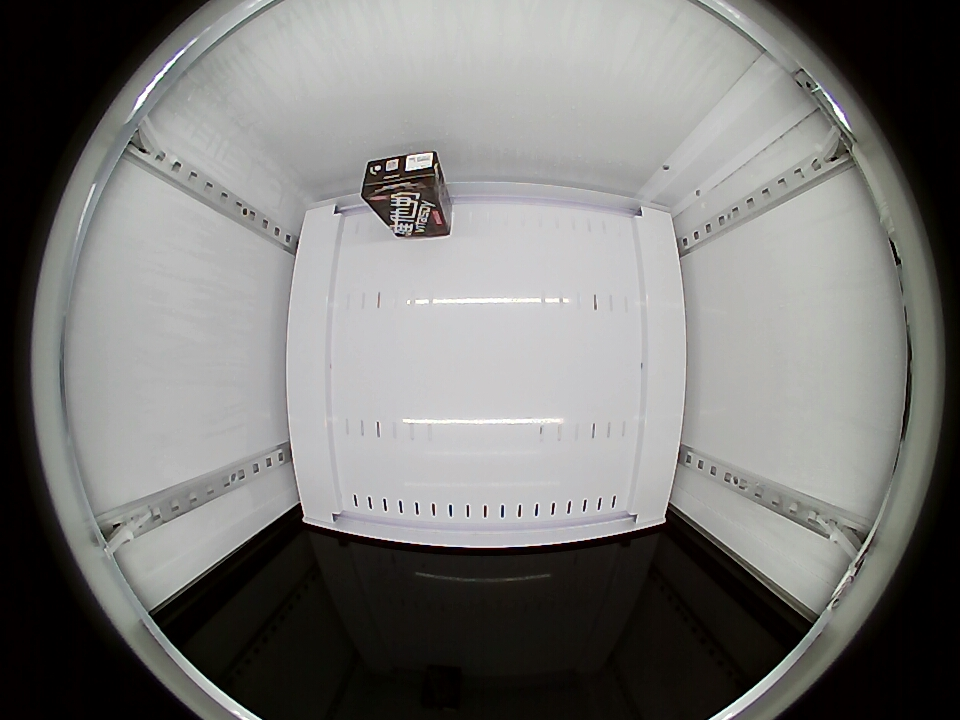weitanai2: (360, 151, 443, 207)
